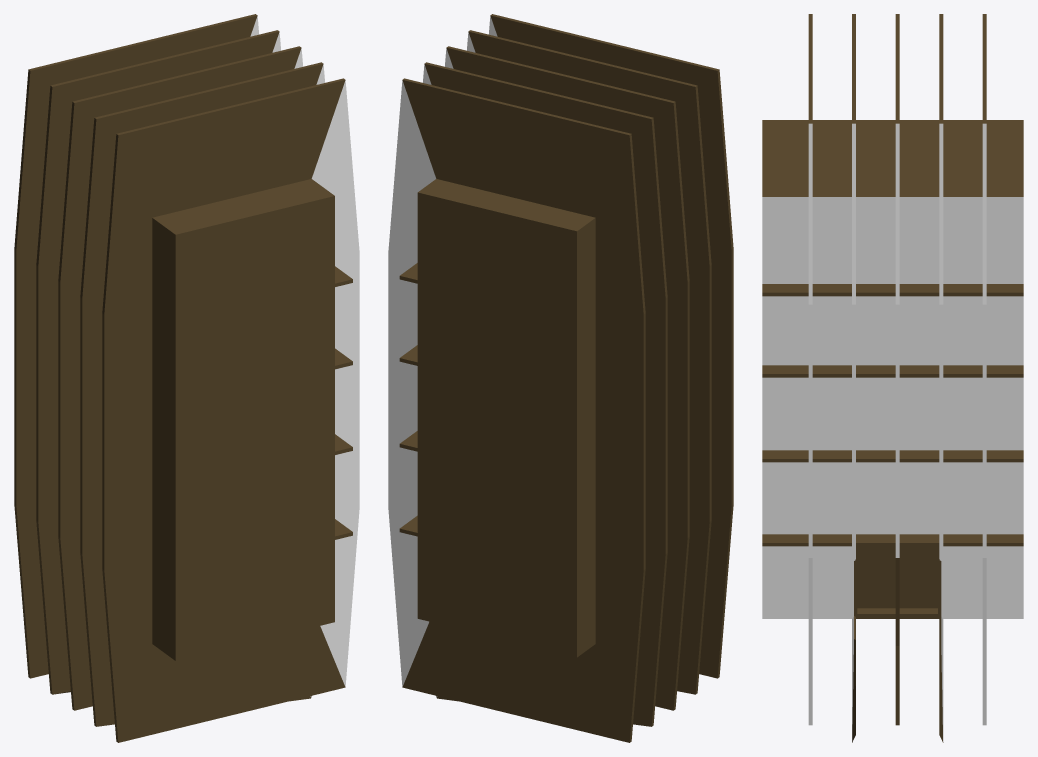
3 views of the same model, side by side, from view 1: azimuth 30°, elevation 25°; view 2: azimuth 150°, elevation 25°; view 3: azimuth 270°, elevation 25° (orthographic).
Parts seen in each view (by area): view 1: Cube.001; view 2: Cube.001; view 3: Cube.001.
Boxes of the visible parts, bbox=[...] form: Cube.001: bbox=[14, 14, 359, 742]; Cube.001: bbox=[388, 14, 733, 742]; Cube.001: bbox=[762, 14, 1023, 742].
Size of the model in its own units: 60.77 by 144 by 54.39.
